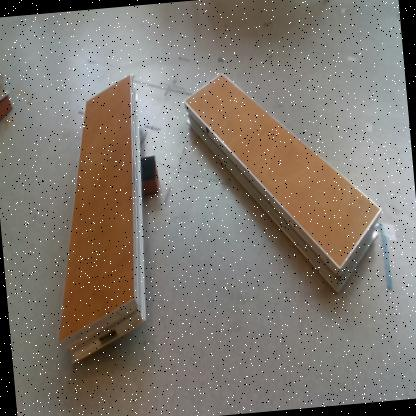Stairs: (186, 74, 384, 293), (56, 71, 147, 367), (1, 71, 12, 101)
